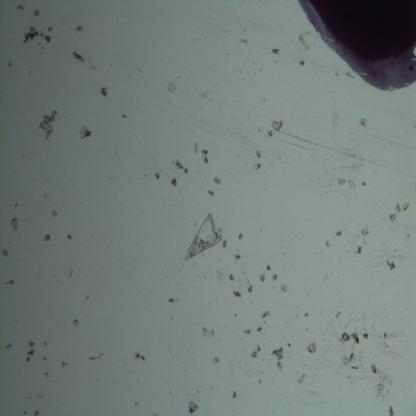Background material: (297, 0, 416, 92), (371, 363, 394, 401), (21, 25, 53, 45), (37, 110, 59, 139), (342, 349, 360, 372), (270, 344, 284, 373), (266, 119, 284, 139), (198, 326, 217, 342), (337, 177, 358, 191), (342, 332, 361, 346), (298, 31, 310, 53), (173, 158, 188, 175), (25, 340, 35, 363), (78, 126, 93, 140), (9, 215, 20, 233), (356, 115, 370, 128), (200, 148, 210, 166), (254, 149, 262, 171), (384, 257, 396, 271), (305, 341, 317, 355), (251, 344, 262, 359), (64, 265, 75, 280), (395, 202, 408, 214), (72, 50, 84, 63), (188, 400, 199, 414), (358, 226, 370, 238), (133, 352, 146, 363), (197, 90, 210, 101), (2, 278, 16, 288), (211, 353, 221, 367), (167, 82, 177, 96), (280, 281, 289, 296), (388, 212, 398, 225), (89, 353, 104, 361), (41, 232, 53, 242), (258, 272, 268, 284), (99, 85, 108, 98), (193, 141, 201, 155), (32, 8, 42, 19), (270, 46, 282, 55), (230, 388, 238, 401), (213, 176, 223, 186), (233, 289, 242, 300), (362, 330, 370, 342), (246, 284, 254, 296), (269, 272, 278, 282), (260, 310, 271, 318), (298, 373, 306, 384), (334, 309, 342, 320), (171, 177, 178, 189), (0, 249, 9, 258), (71, 319, 80, 328), (43, 372, 52, 381), (75, 23, 84, 32), (50, 209, 59, 218), (354, 245, 362, 255), (207, 190, 215, 199), (243, 328, 252, 336), (168, 296, 176, 305), (16, 4, 24, 13), (265, 262, 272, 272), (154, 170, 160, 181), (388, 404, 394, 415), (5, 342, 13, 350), (234, 254, 242, 262), (336, 228, 342, 238), (228, 274, 234, 284), (256, 325, 263, 333), (240, 38, 248, 45), (324, 240, 332, 247), (360, 180, 368, 187), (237, 232, 244, 240), (299, 59, 305, 67), (62, 361, 68, 369), (221, 240, 226, 249), (66, 233, 72, 240), (44, 356, 48, 363), (34, 410, 40, 414)
Fragment: (184, 211, 222, 260)
